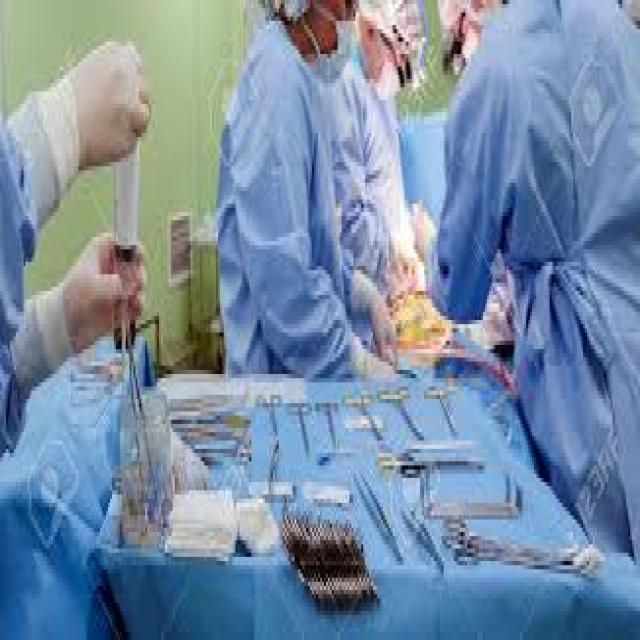tools_table: (123, 362, 575, 640)
